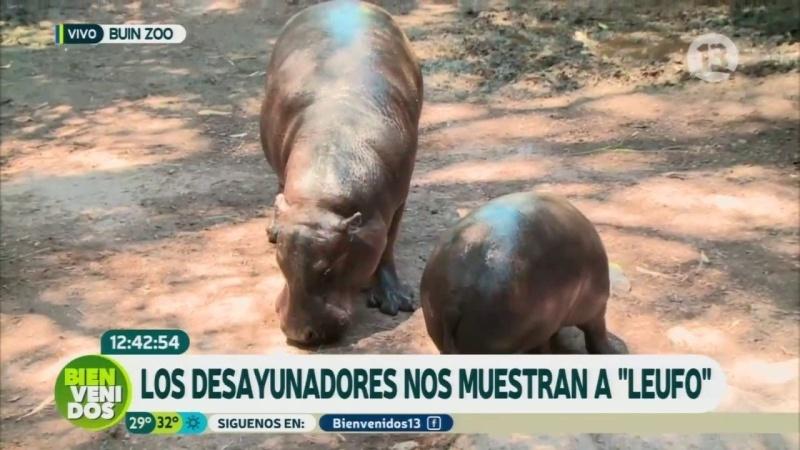hipopotamo: (246, 1, 428, 356), (401, 185, 642, 355)
